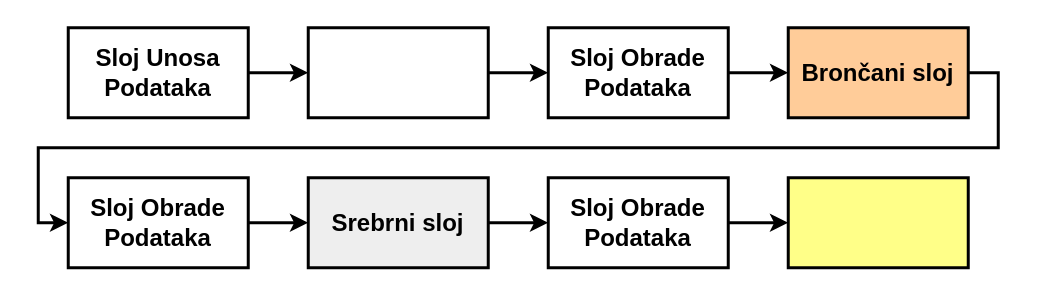
Image size: 1037x294. Some labels were removed from this diagram. The centre of each missing label's shape, as x and y in pixels:
"Sirovi podaci" belongs at pixel 397 72.
"Zlatni sloj" belongs at pixel 877 222.
